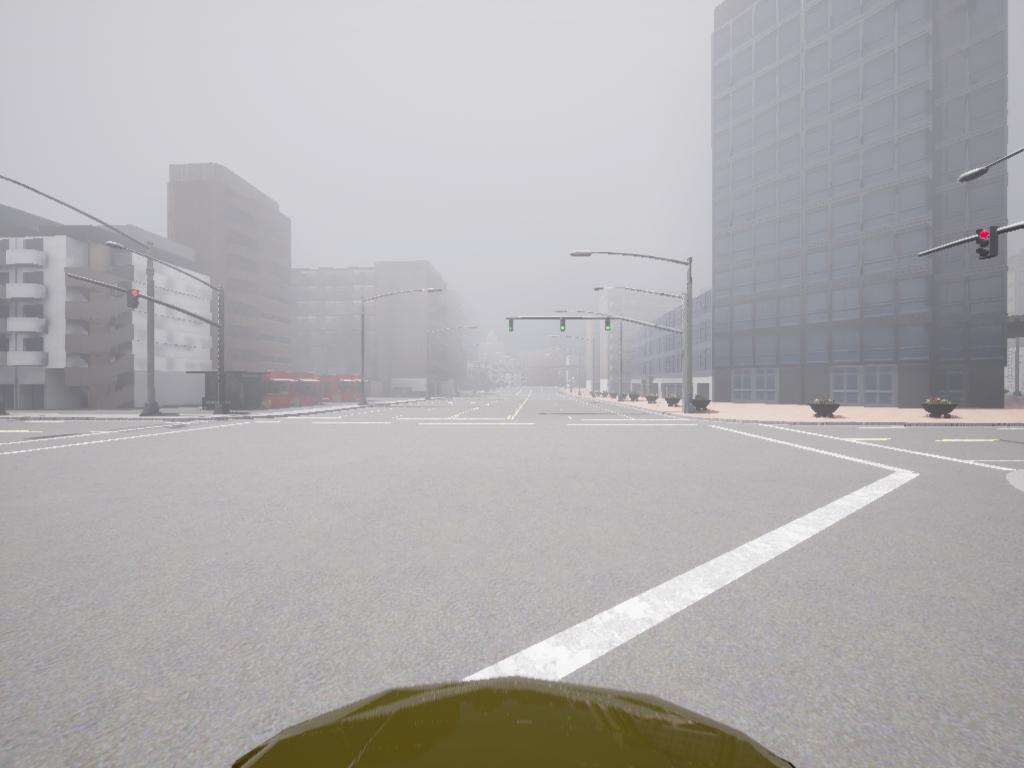traffic_light: (978, 227, 997, 258), (129, 288, 140, 309), (509, 319, 515, 333), (606, 318, 612, 331), (561, 319, 566, 332)
